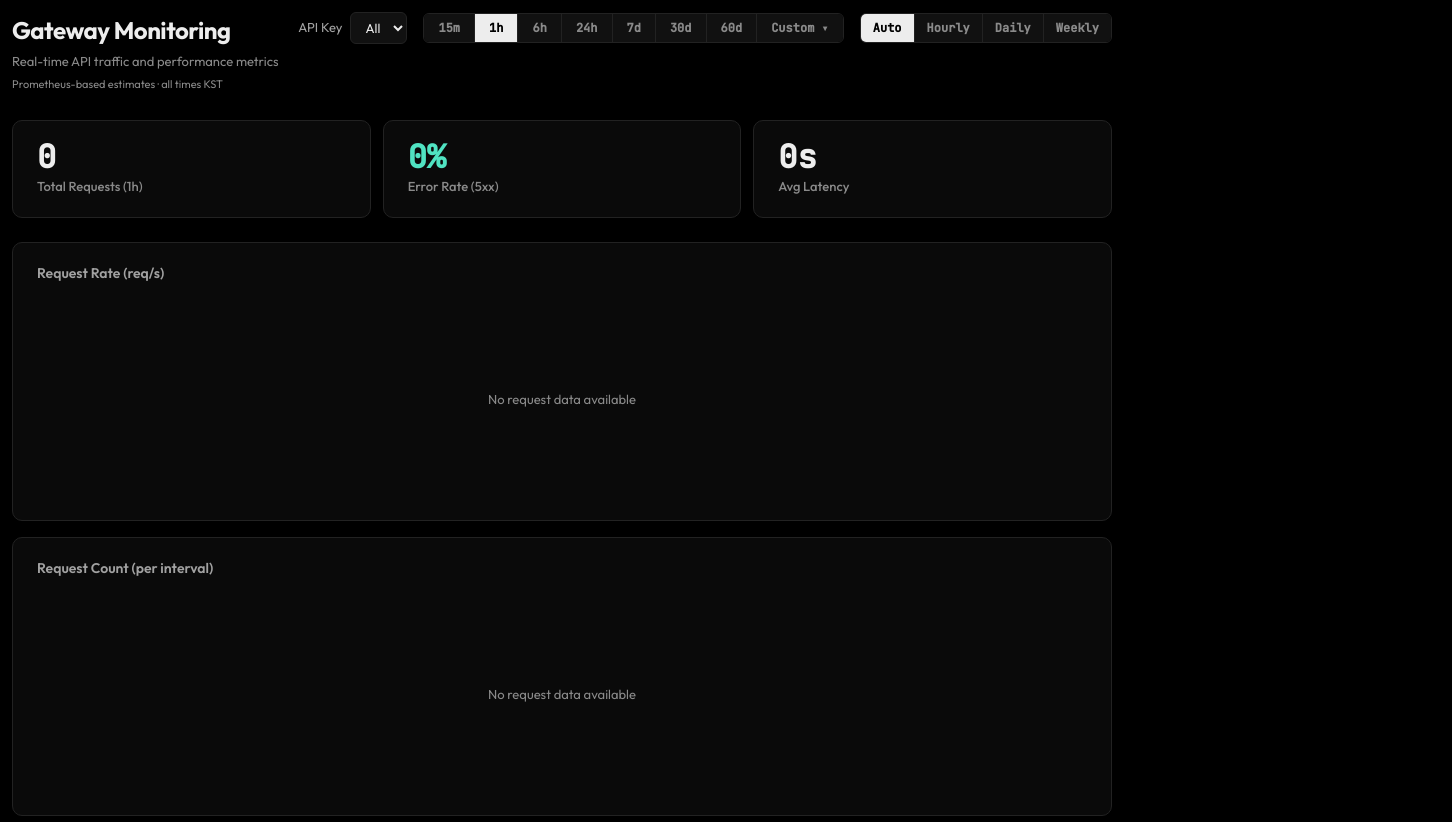
Scenario: GatewayMonitoring › shows partial load feedback when bucketed comparison series fail
Check: the text "Total Requests (1h)" is shown, box [37, 178, 142, 194]
Click the button "Daily": (1013, 28) [983, 14, 1044, 42]
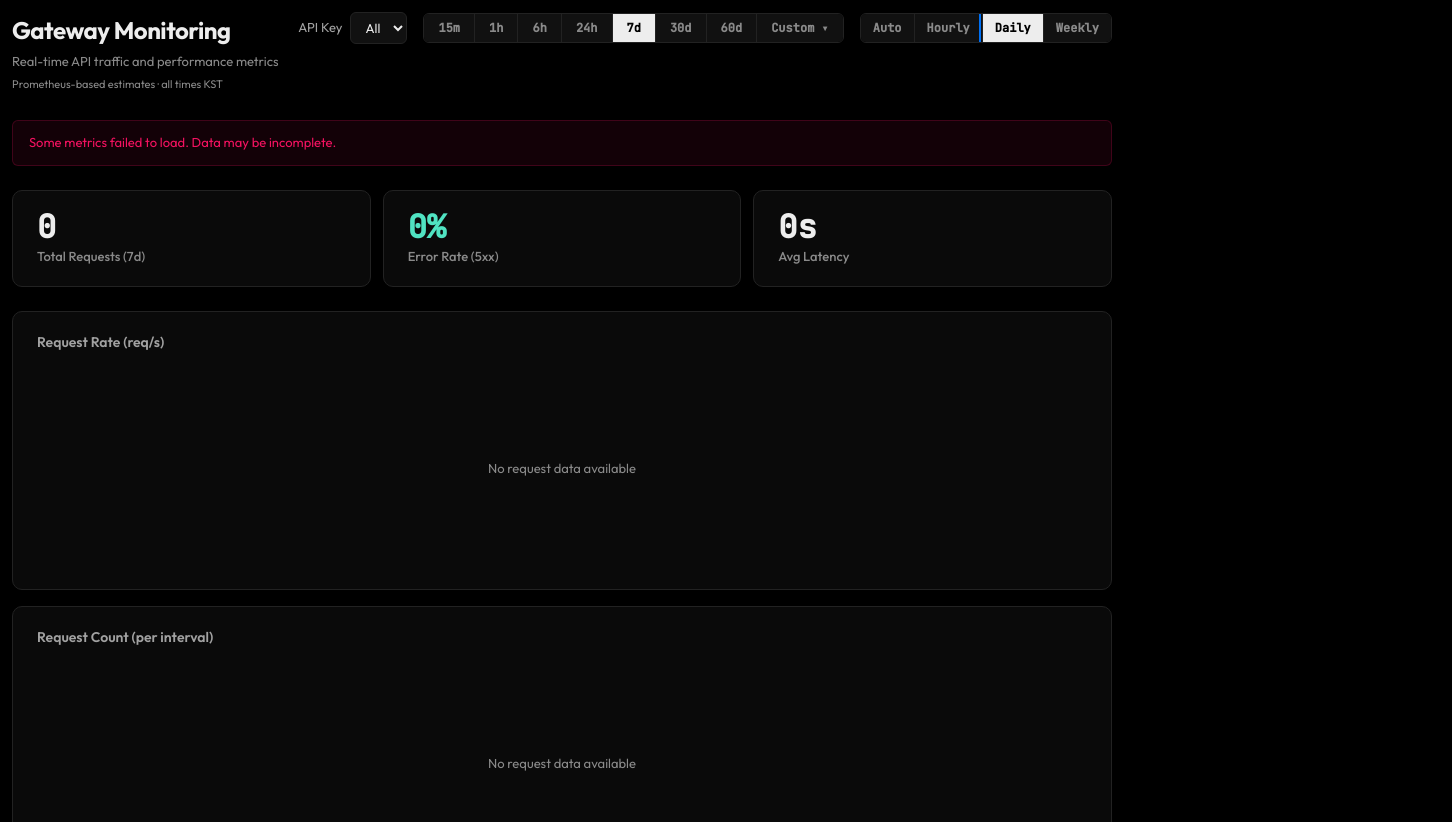
Check: the text "Some metrics failed to load. Data may be incomplete." is shown, box [12, 120, 1112, 166]
